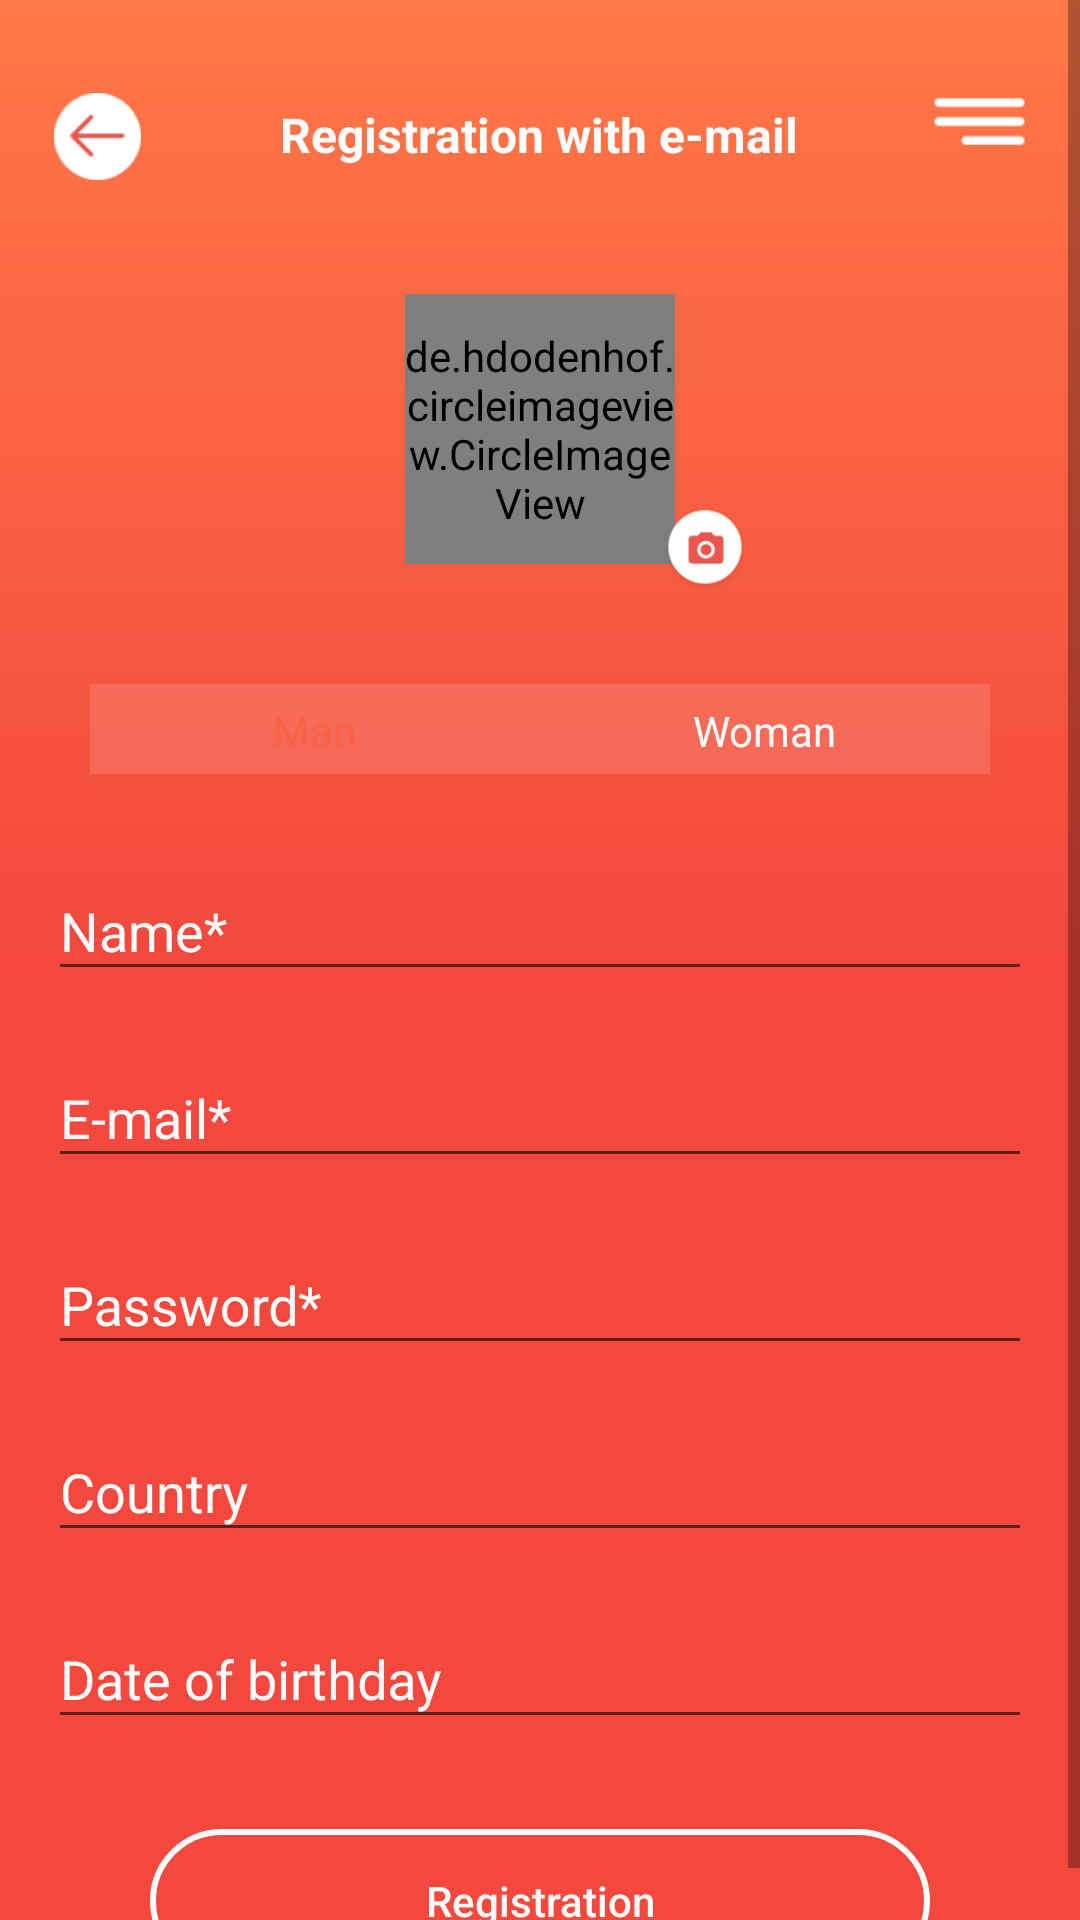

Screen size 1080 x 1920. Icon name, then its center in pixels as point (x, y):
back: point (97, 136)
burgerwhite: point (979, 121)
pick photo for ava: point (701, 544)
